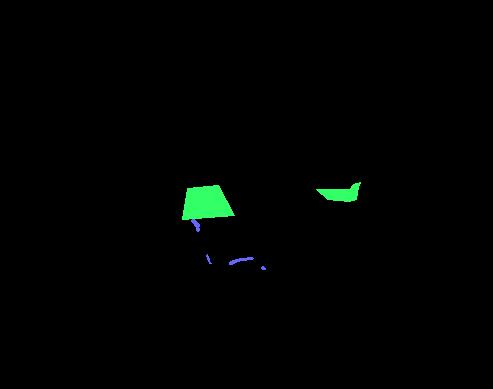Broken part: (182, 185, 234, 219), (316, 182, 360, 201)
Scratch: (229, 257, 253, 264), (191, 219, 199, 231), (206, 254, 211, 263), (261, 266, 265, 269)
